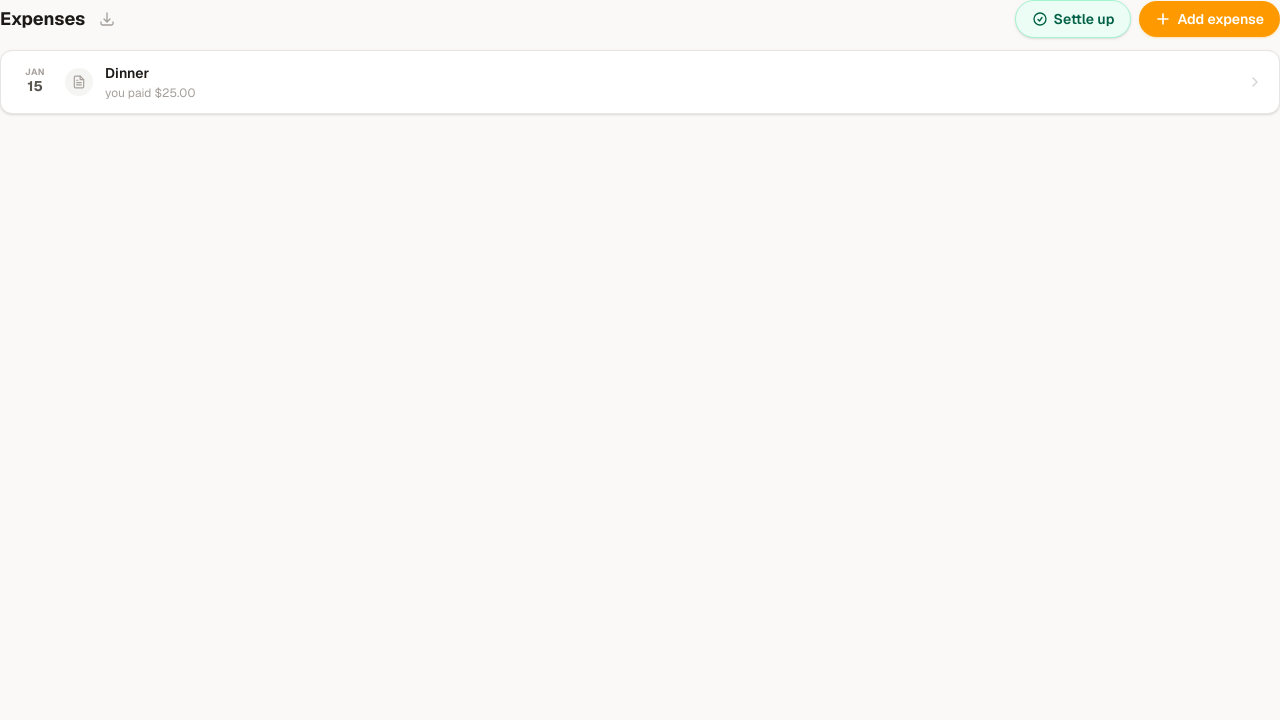
Test: ExpensesList — detail modal shows correct actions for creator vs non-creator › shows 'Added by' the creator's name when the current user is not the creator
Step 1. Click the button "JAN 15 Dinner you paid $25.00" → (640, 82), box [0,50,1279,114]
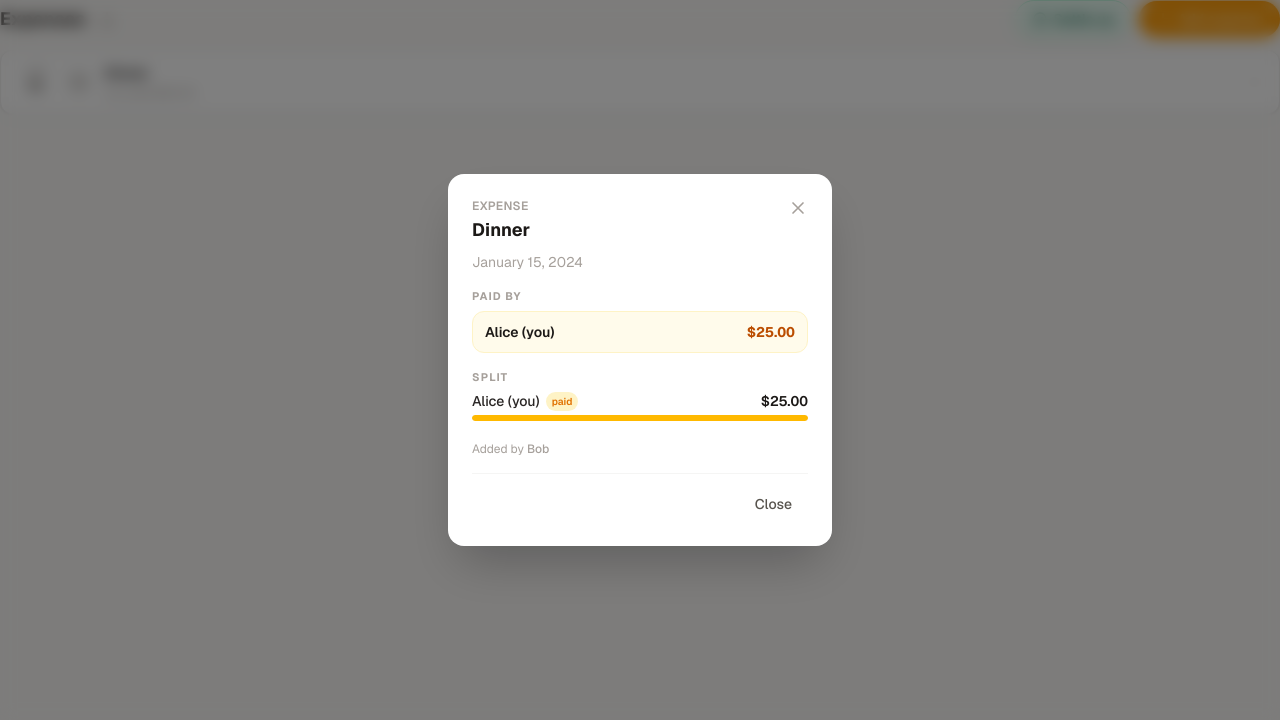
Result: the text "Added by Bob" is shown at [472,441,549,457]
